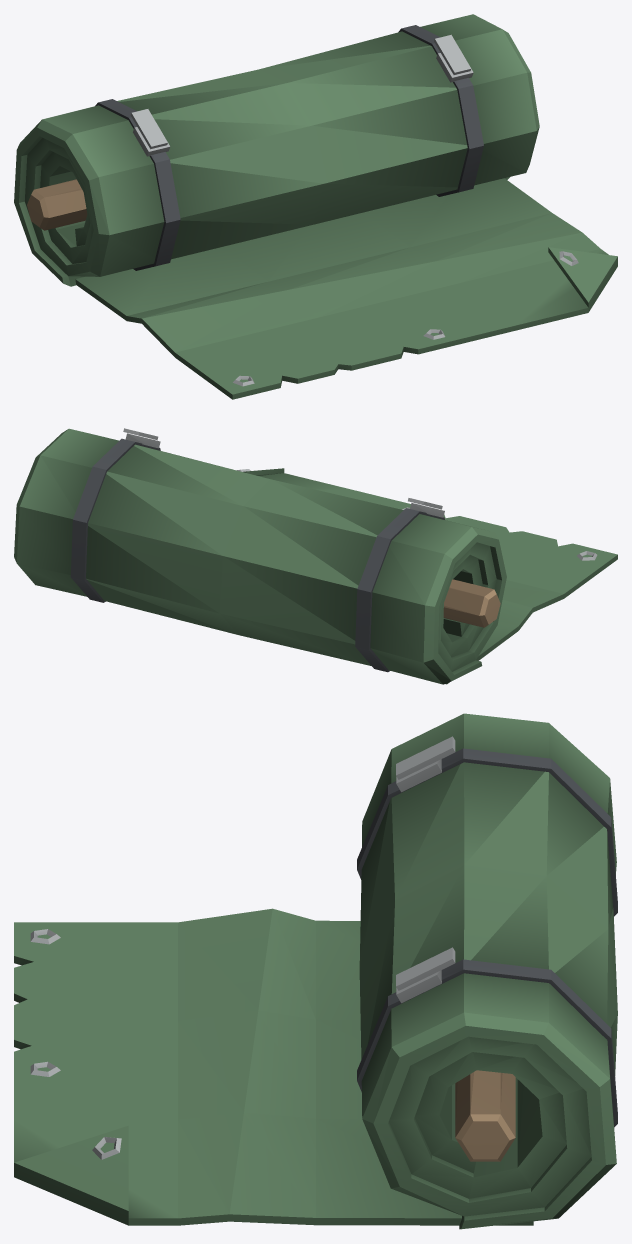
File: tarp.glb
The picture shows the model from 3 angles, top to bottom: view 1: azimuth 30°, elevation 25°; view 2: azimuth 150°, elevation 25°; view 3: azimuth 270°, elevation 25°; orthographic projection. The views are drawn at different scales.
Visible parts, largest first — view 1: tarp; view 2: tarp; view 3: tarp.
Part boxes in pixels (x1,y1,x2,y2): tarp: (14, 14, 617, 399); tarp: (14, 428, 617, 684); tarp: (14, 713, 617, 1229).
Size of the model in its own units: 3.2 by 1.01 by 2.4.
